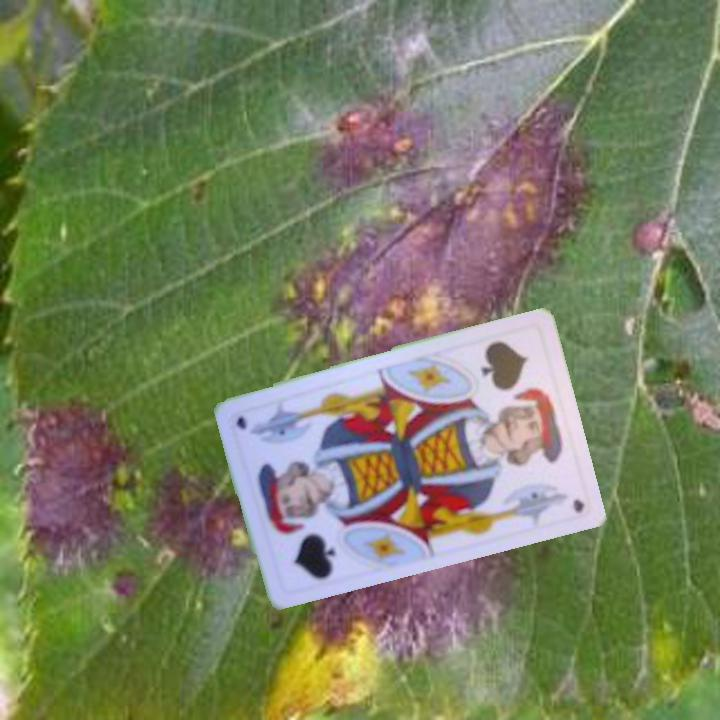s_j.png: (457, 325, 564, 443), (253, 476, 360, 593)
